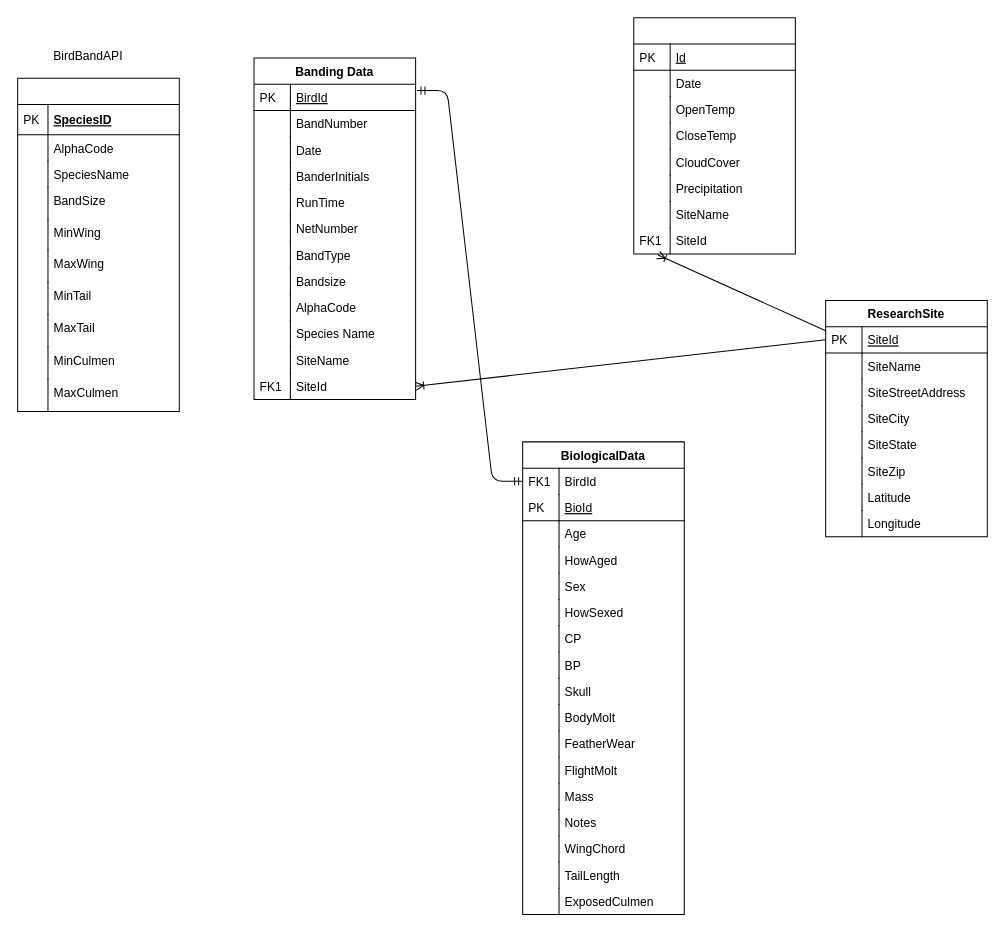
Image size: 1005x935. Some labels were removed from this diagram. Here are the shapes that lost their labels. From the top down, the box of each, then its label:
(633, 17, 795, 254): Environmental
(17, 77, 179, 412): Birds
